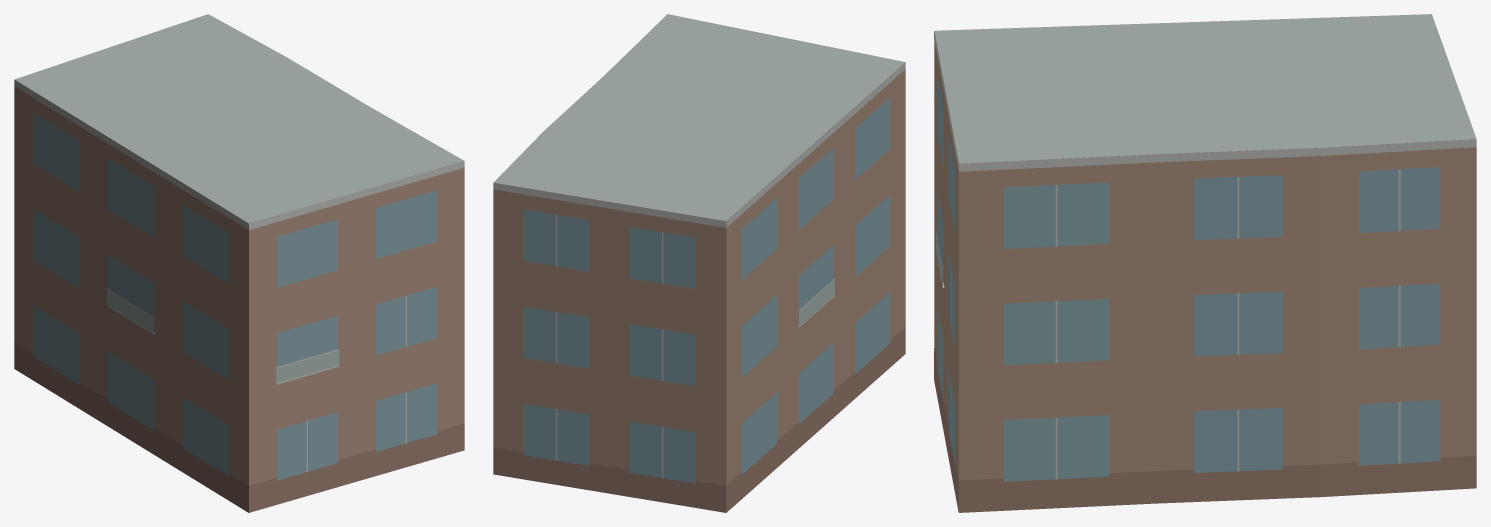
File: survey-upis-32936425.glb
3 views of the same model, side by side, from view 1: azimuth 30°, elevation 25°; view 2: azimuth 150°, elevation 25°; view 3: azimuth 270°, elevation 25° (orthographic). The views are drawn at different scales.
Visible parts, largest first — view 1: survey-upis-32936425.tmp; view 2: survey-upis-32936425.tmp; view 3: survey-upis-32936425.tmp.
Boxes of the visible parts, x1,y1,x2,y2 form: survey-upis-32936425.tmp: (14, 14, 464, 512); survey-upis-32936425.tmp: (493, 14, 905, 512); survey-upis-32936425.tmp: (934, 14, 1476, 512).
Size of the model in its own units: 9.62 by 10.45 by 14.73.
